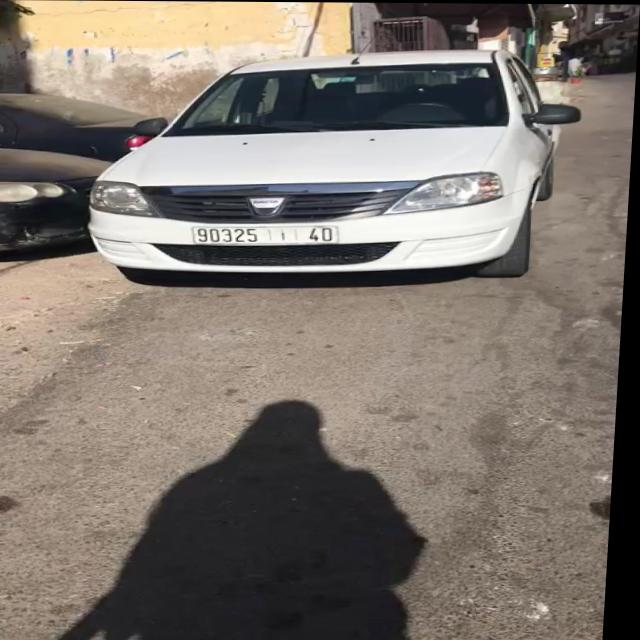License-Plate: (195, 226, 341, 244)
